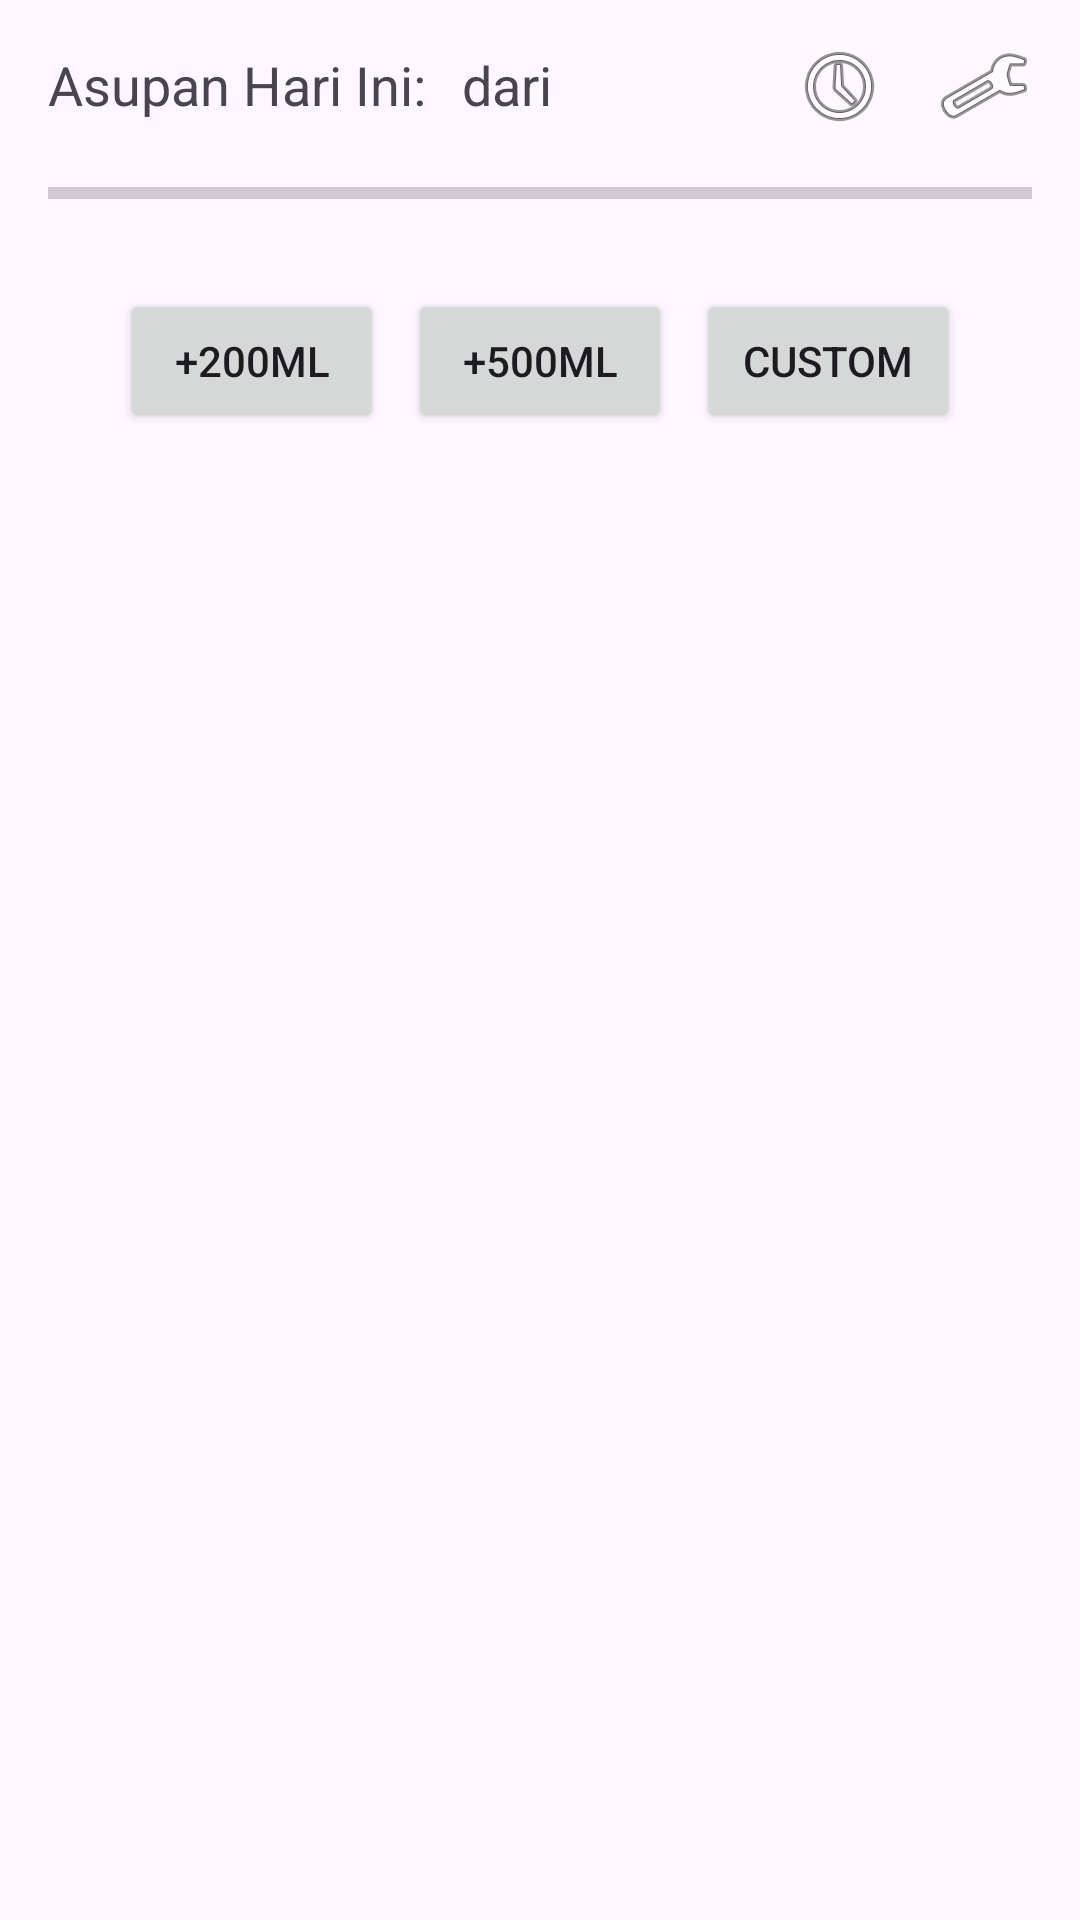

Named icons in this screenshot (1080x1920) and their centers, (x=x, y=y):
Lihat Riwayat: (x=839, y=86)
Pengaturan Aplikasi: (x=984, y=86)
